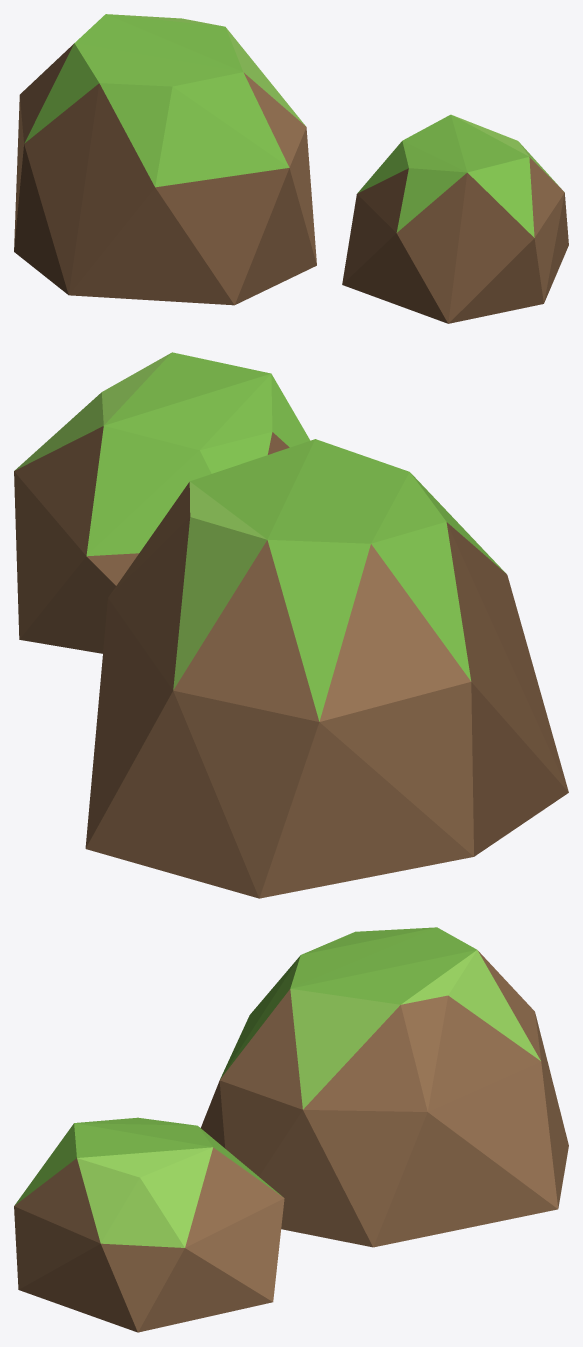
File: rock_smallG.glb
3 views of the same model, one above another, from view 1: azimuth 30°, elevation 25°; view 2: azimuth 150°, elevation 25°; view 3: azimuth 270°, elevation 25° (orthographic). The views are drawn at different scales.
Parts seen in each view (by area): view 1: rock_smallG; view 2: rock_smallG; view 3: rock_smallG.
Part boxes in pixels (x1=…): rock_smallG: x1=14, y1=14, x2=568, y2=323; rock_smallG: x1=14, y1=352, x2=568, y2=898; rock_smallG: x1=14, y1=927, x2=568, y2=1332.
Bounding box in the file's own units: 0.5606 × 0.2442 × 0.5705.
Materials: 1 (1 with a texture image).
